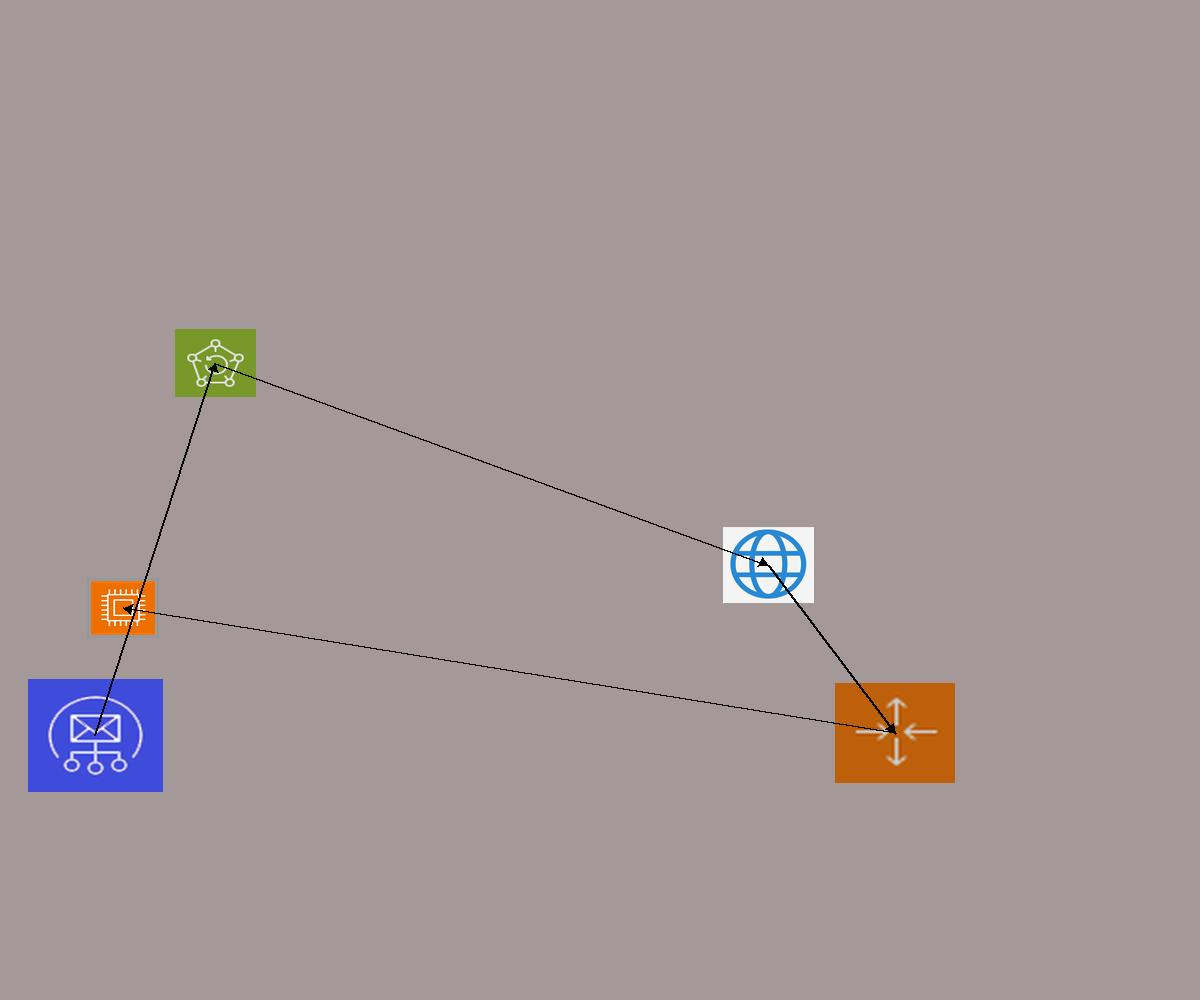AWS-Backup: (175, 329, 256, 397)
AWS-Category_Compute: (87, 578, 159, 638)
AWS-Scaling-group: (835, 683, 955, 783)
AWS-Simple-Email-Service: (28, 679, 163, 792)
Azure_http: (723, 527, 814, 603)
